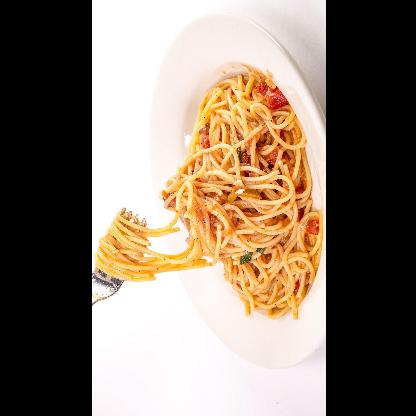spaghetti: (93, 74, 321, 320)
